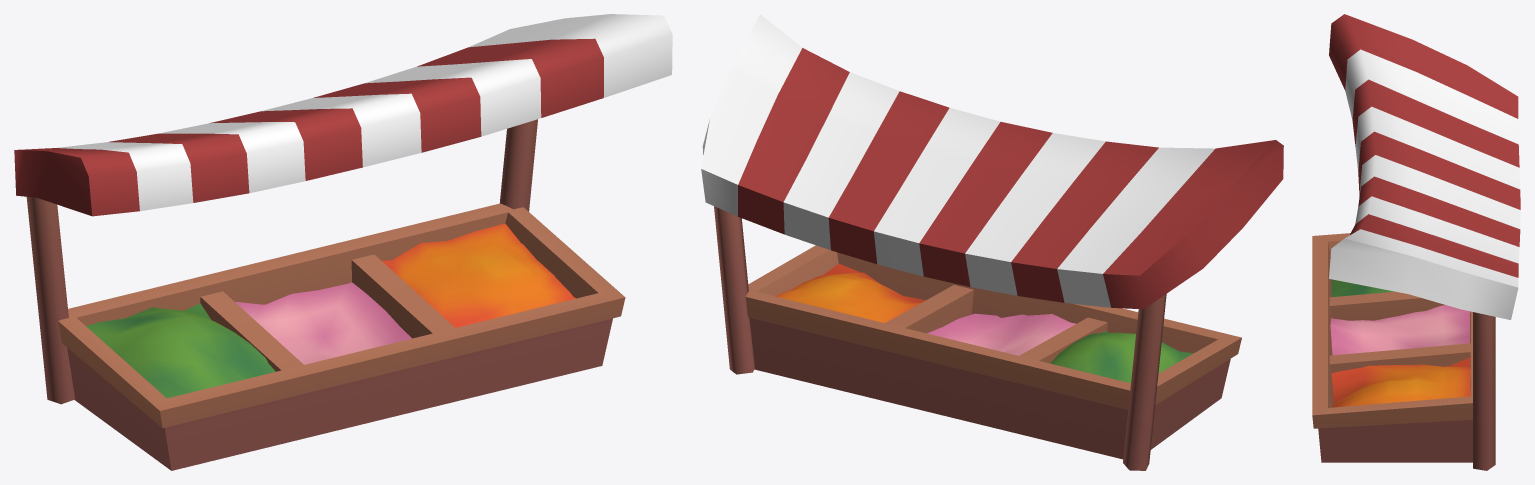
File: Market_Stall_Red.obj
3 renders of one model, left to right at view 1: azimuth 30°, elevation 25°; view 2: azimuth 150°, elevation 25°; view 3: azimuth 270°, elevation 25°, orthographic. The views are drawn at different scales.
Visible parts, largest first — view 1: {mesh}Market_Stall_Red_Cube.003; view 2: {mesh}Market_Stall_Red_Cube.003; view 3: {mesh}Market_Stall_Red_Cube.003.
Boxes of the visible parts, left/top/right/bottom form: {mesh}Market_Stall_Red_Cube.003: left=14, top=14, right=672, bottom=470; {mesh}Market_Stall_Red_Cube.003: left=701, top=14, right=1283, bottom=470; {mesh}Market_Stall_Red_Cube.003: left=1312, top=14, right=1520, bottom=470.
Size of the model in its own units: 199 by 103 by 76.92.
